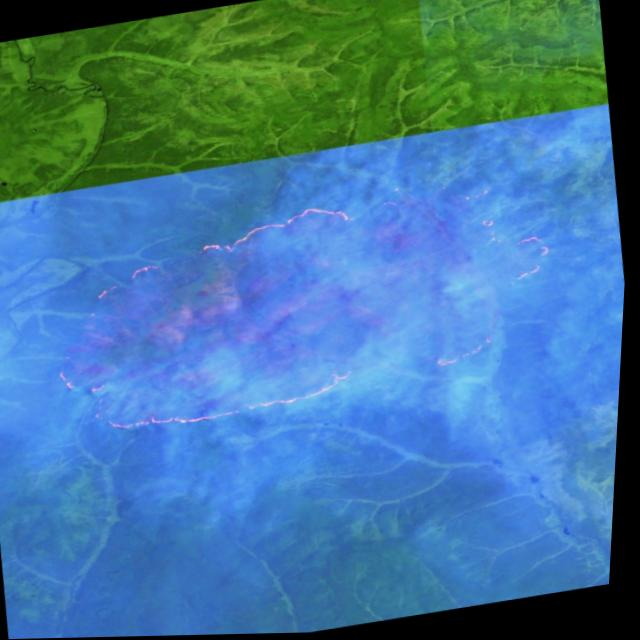fire: (18, 164, 590, 451)
